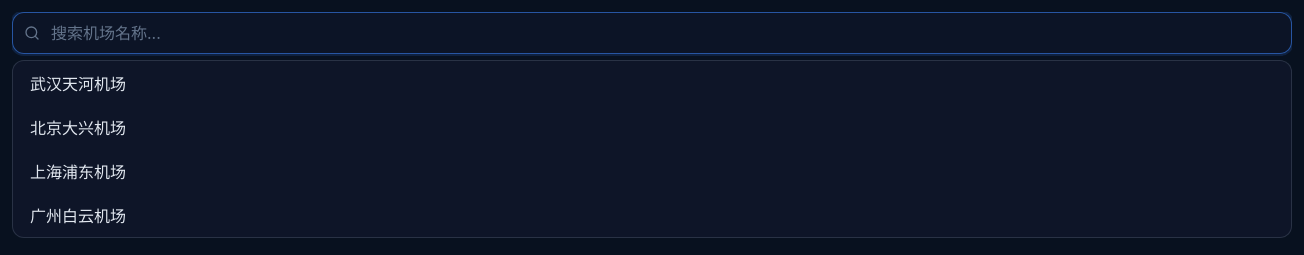
Test: AirportSearchSelect › keyboard navigation: Escape clears search
Type "武汉" into the field with class "airport-search-select__input" at [652, 33], box [12,12,1292,54]
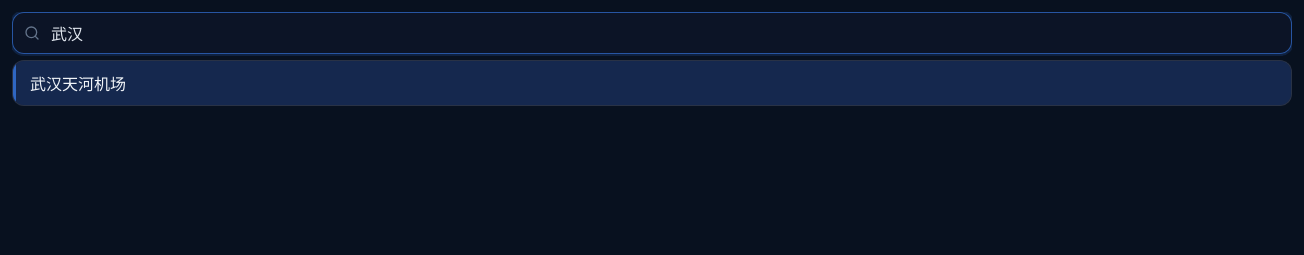
Expected: the number of options with class "airport-search-select__option" is 1, [13,61,1291,105]
Press Escape in the field with class "airport-search-select__input", box [12,12,1292,54]
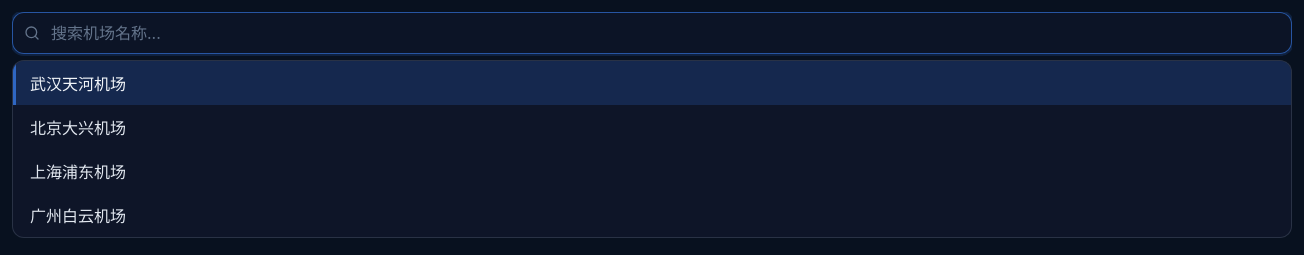
Expected: the field with class "airport-search-select__input" is empty, [12,12,1292,54]
Expected: the number of options with class "airport-search-select__option" is 4, [13,61,1291,105]; [30,118,126,138]; [30,162,126,182]; [30,206,126,226]
